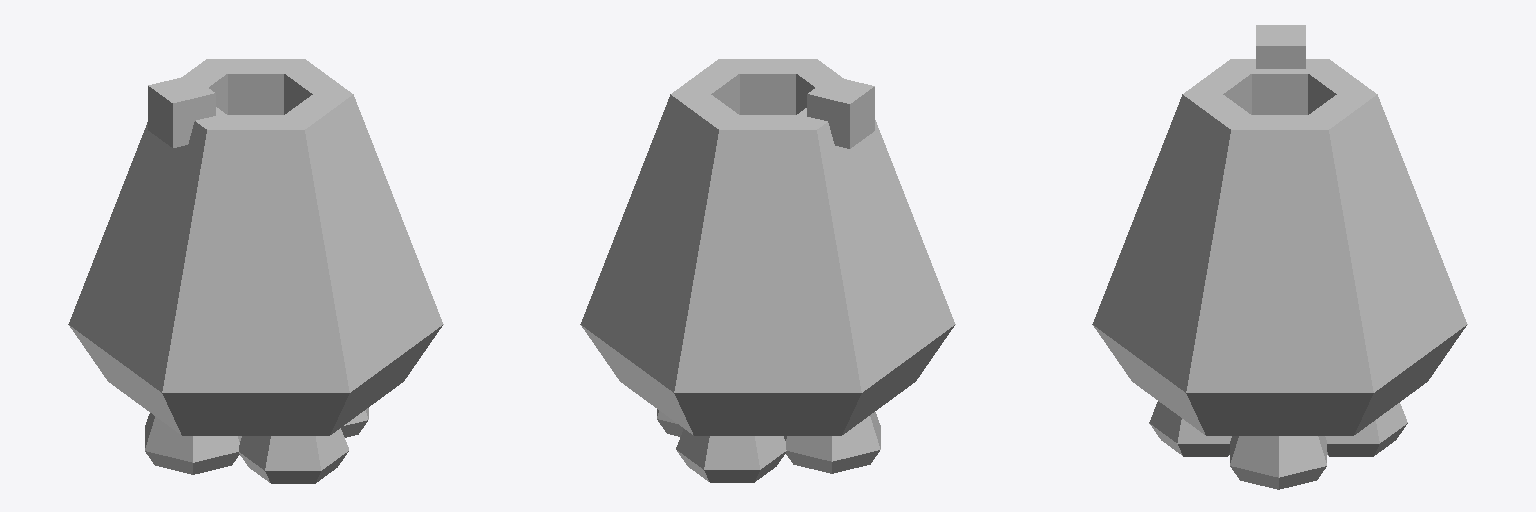
Rendered from Pod.obj.
3 renders of one model, left to right at view 1: azimuth 30°, elevation 25°; view 2: azimuth 150°, elevation 25°; view 3: azimuth 270°, elevation 25°, orthographic.
Visible parts, largest first — view 1: Cylinder; view 2: Cylinder; view 3: Cylinder.
Part boxes in pixels (x1,y1,x2,y2): Cylinder: (68, 59, 443, 483); Cylinder: (580, 59, 955, 482); Cylinder: (1092, 25, 1467, 489).
Bounding box in the file's own units: 1.73 × 2.17 × 2.